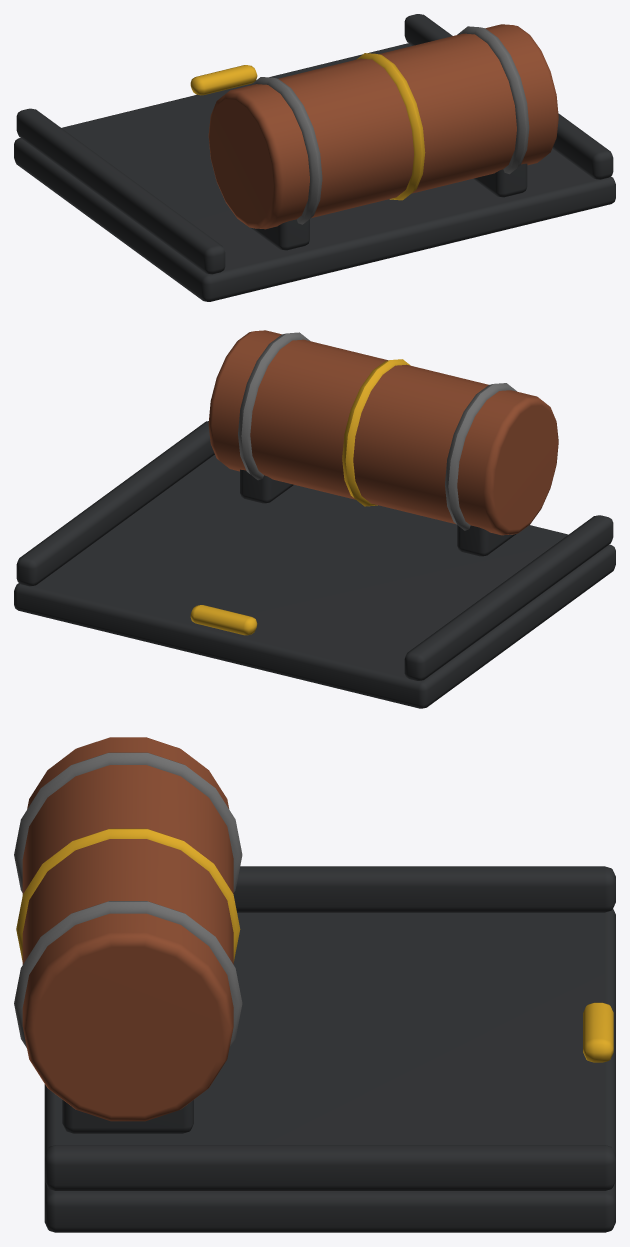
The model's file is s-boiler.glb.
3 renders of one model, top to bottom at view 1: azimuth 30°, elevation 25°; view 2: azimuth 150°, elevation 25°; view 3: azimuth 270°, elevation 25°, orthographic. The views are drawn at different scales.
Parts seen in each view (by area): view 1: s-boiler; view 2: s-boiler; view 3: s-boiler.
Boxes of the visible parts, left/top/right/bottom form: s-boiler: left=14, top=14, right=615, bottom=301; s-boiler: left=14, top=330, right=615, bottom=708; s-boiler: left=14, top=737, right=615, bottom=1232.
Bounding box in the file's own units: 1.6 × 0.6561 × 1.37.
